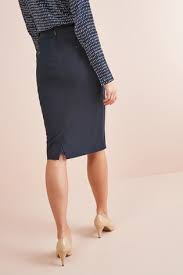F_tailored skirt: (29, 19, 114, 160)
